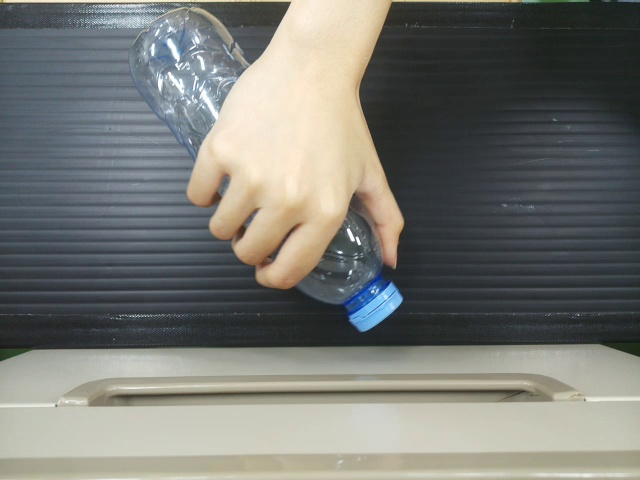bottle: (108, 2, 247, 144), (295, 203, 416, 345)
